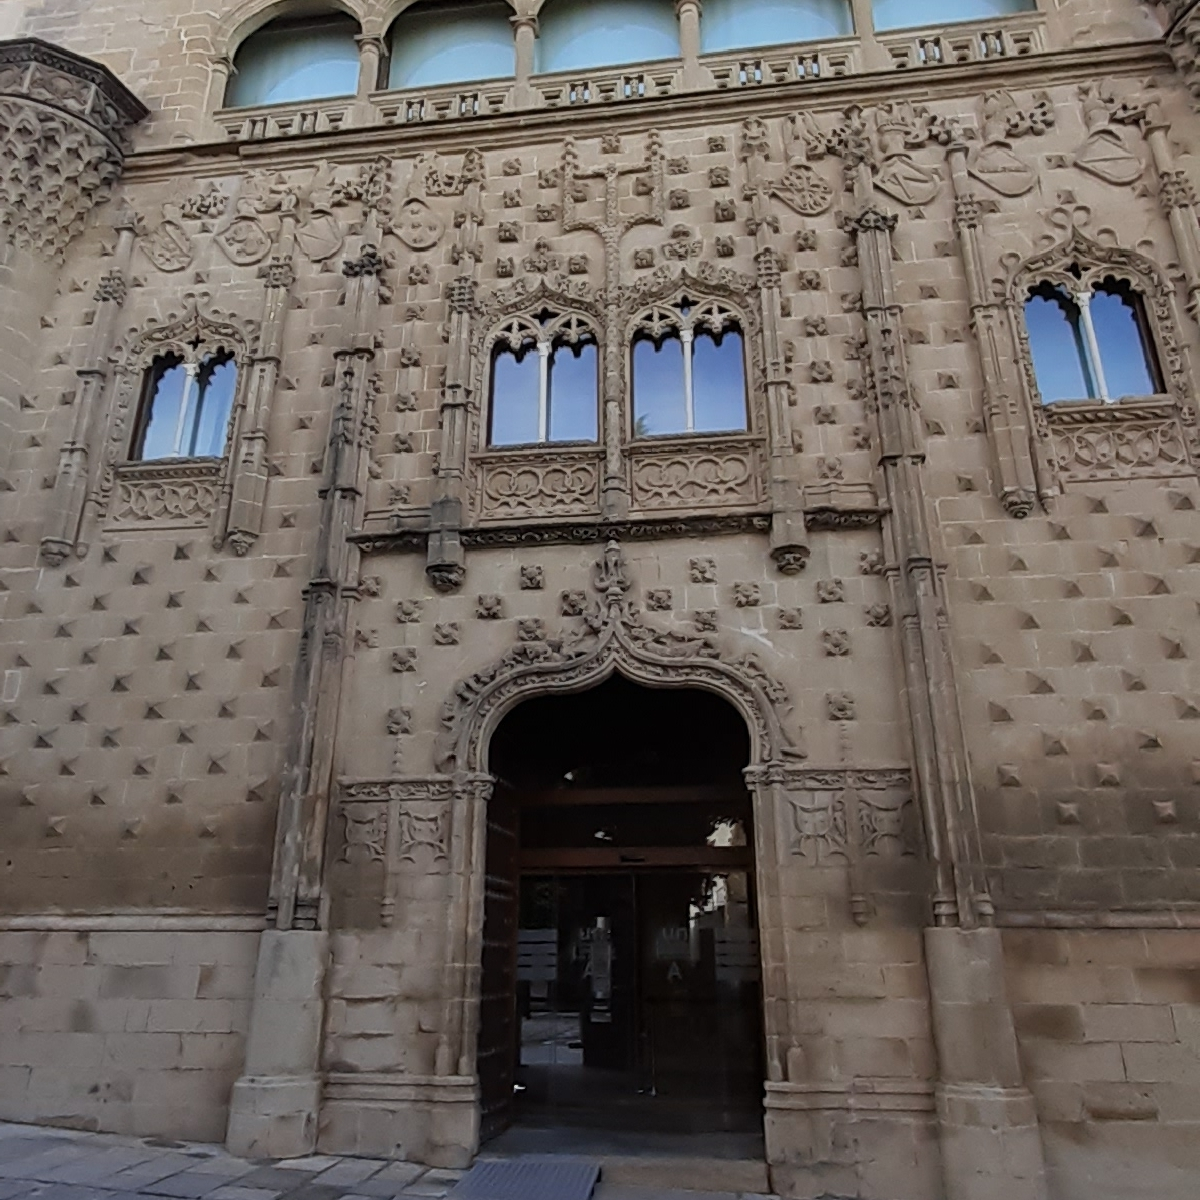arco-conopial: (459, 604, 784, 774), (1008, 220, 1170, 314), (121, 291, 255, 374), (474, 273, 607, 352), (621, 263, 757, 333)
